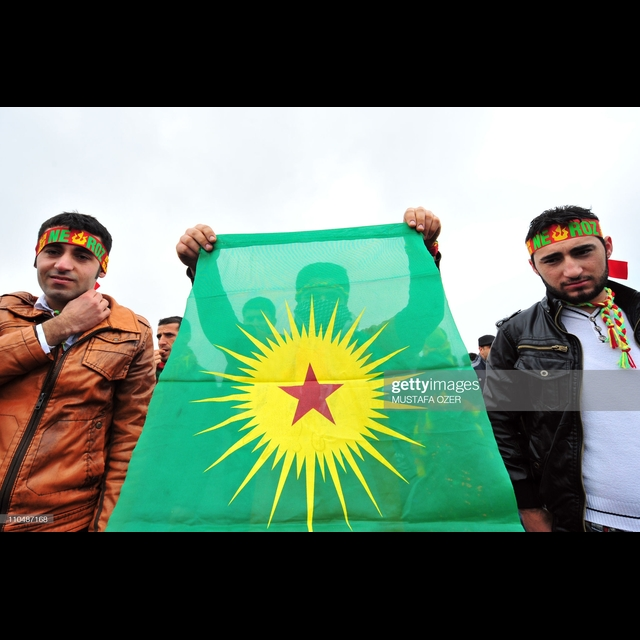KCK: (208, 287, 425, 529)
